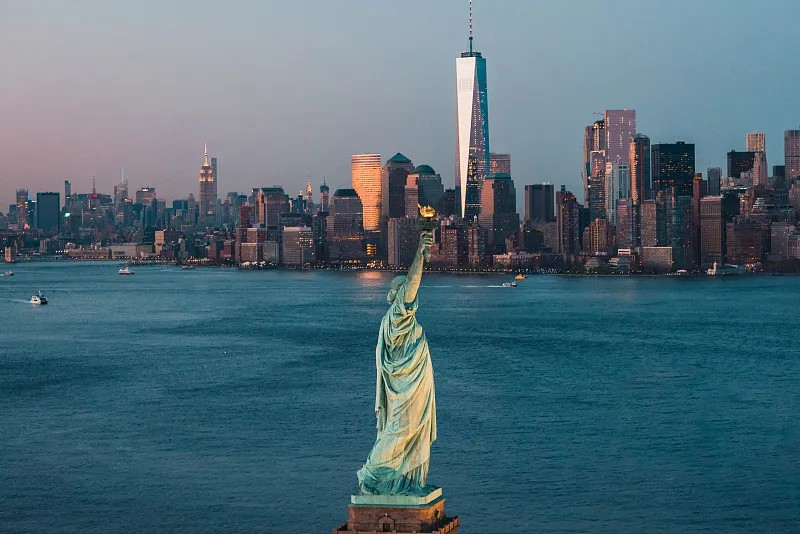SL: (332, 203, 458, 534)
